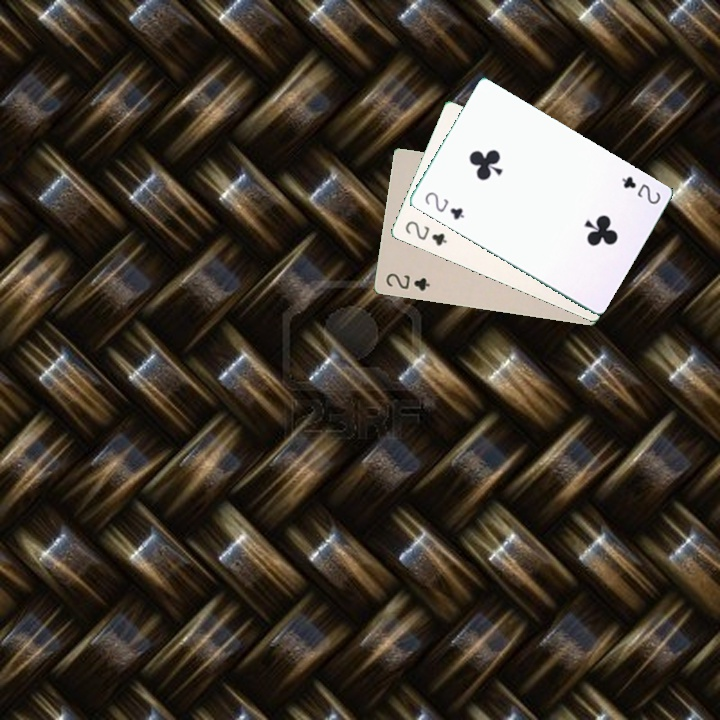2c: (421, 188, 467, 223), (617, 172, 663, 207), (401, 217, 450, 248), (382, 269, 432, 294)
